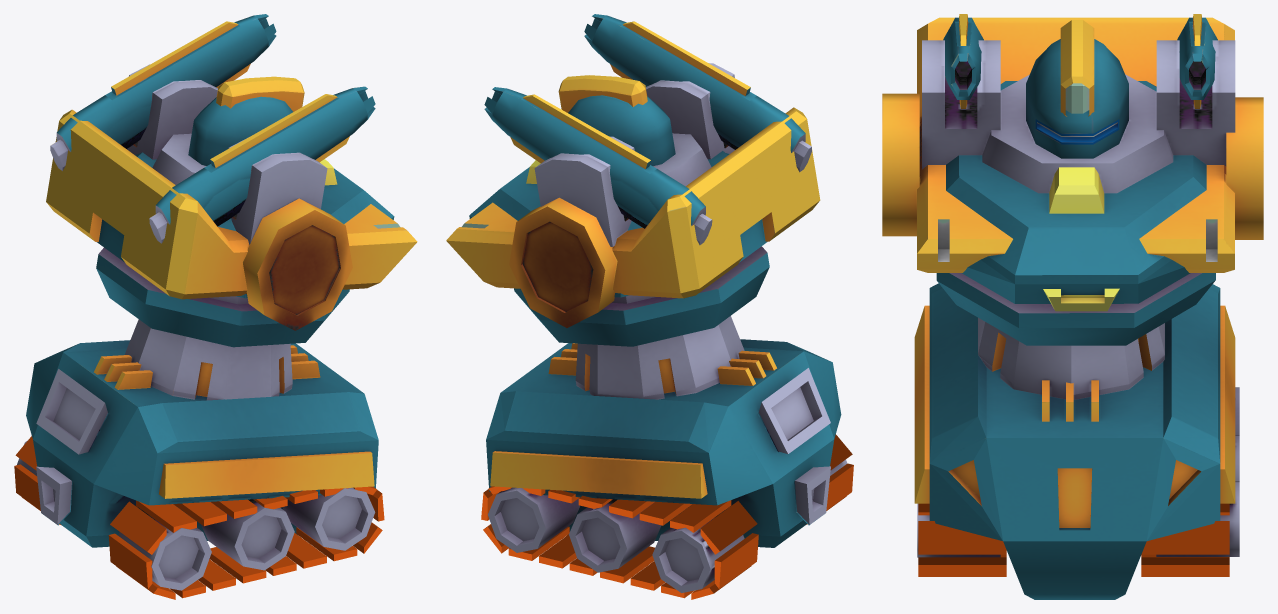
The model's file is Player_Move9.obj.
3 renders of one model, left to right at view 1: azimuth 30°, elevation 25°; view 2: azimuth 150°, elevation 25°; view 3: azimuth 270°, elevation 25°, orthographic. The views are drawn at different scales.
Parts seen in each view (by area): view 1: Object004, Object014, Box009, Box017, Box016; view 2: Object004, Object014, Box009, Box016, Box017; view 3: Object004, Object014, Box017, Box016, Box009.
Boxes of the visible parts, x1,y1,x2,y2 form: Object004: [26, 64, 417, 547]; Object014: [50, 14, 375, 243]; Box009: [17, 440, 375, 590]; Box017: [108, 486, 384, 599]; Box016: [14, 436, 61, 525]; Object004: [446, 63, 841, 547]; Object014: [484, 14, 811, 245]; Box009: [488, 459, 847, 592]; Box016: [481, 486, 758, 599]; Box017: [806, 434, 853, 524]; Object004: [882, 17, 1263, 599]; Object014: [943, 14, 1217, 108]; Box017: [918, 503, 1006, 576]; Box016: [1141, 503, 1229, 576]; Box009: [917, 387, 1239, 557].
Bounding box in the file's own units: 60.24 × 83.82 × 52.49.
